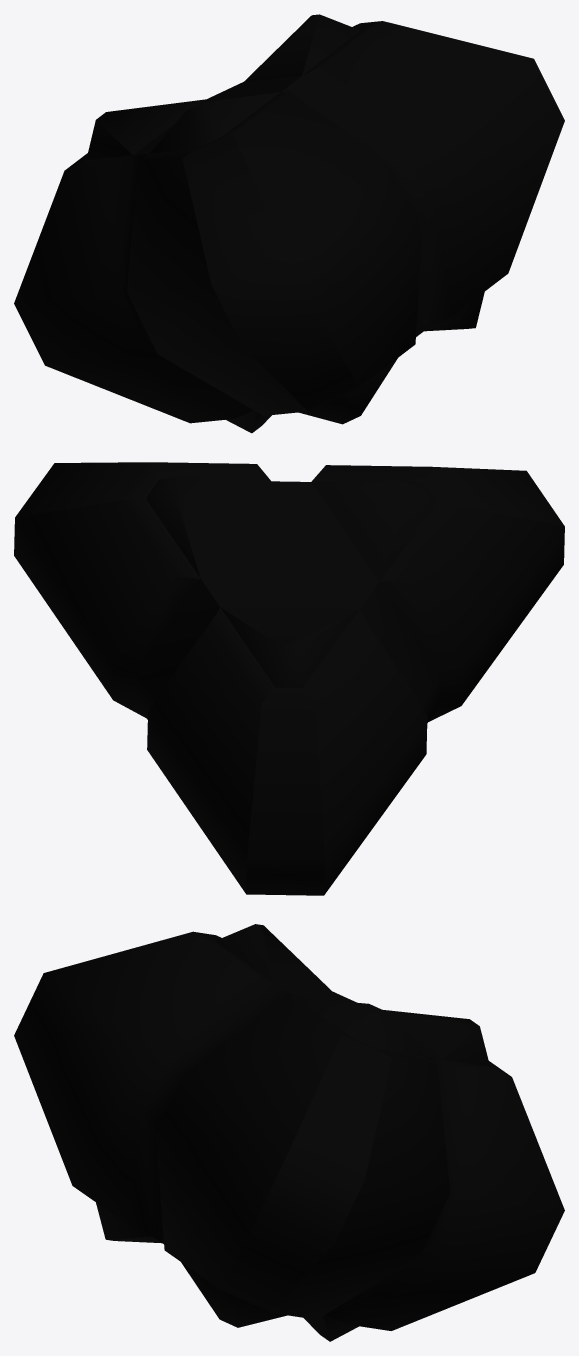
File: kpr_collectable_relic_01.glb
The picture shows the model from 3 angles, top to bottom: view 1: azimuth 30°, elevation 25°; view 2: azimuth 150°, elevation 25°; view 3: azimuth 270°, elevation 25°; orthographic projection. The views are drawn at different scales.
Visible parts, largest first — view 1: kpr_mine_01_LOD0; view 2: kpr_mine_01_LOD0; view 3: kpr_mine_01_LOD0.
Boxes of the visible parts, x1=… form: kpr_mine_01_LOD0: x1=14, y1=14, x2=564, y2=433; kpr_mine_01_LOD0: x1=14, y1=462, x2=564, y2=895; kpr_mine_01_LOD0: x1=14, y1=924, x2=564, y2=1341.
Size of what is drawn, in the model's own units: 0.8013 by 0.6415 by 0.8521.
1 material, 1 textured.
